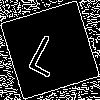L: (25, 25, 72, 79)
